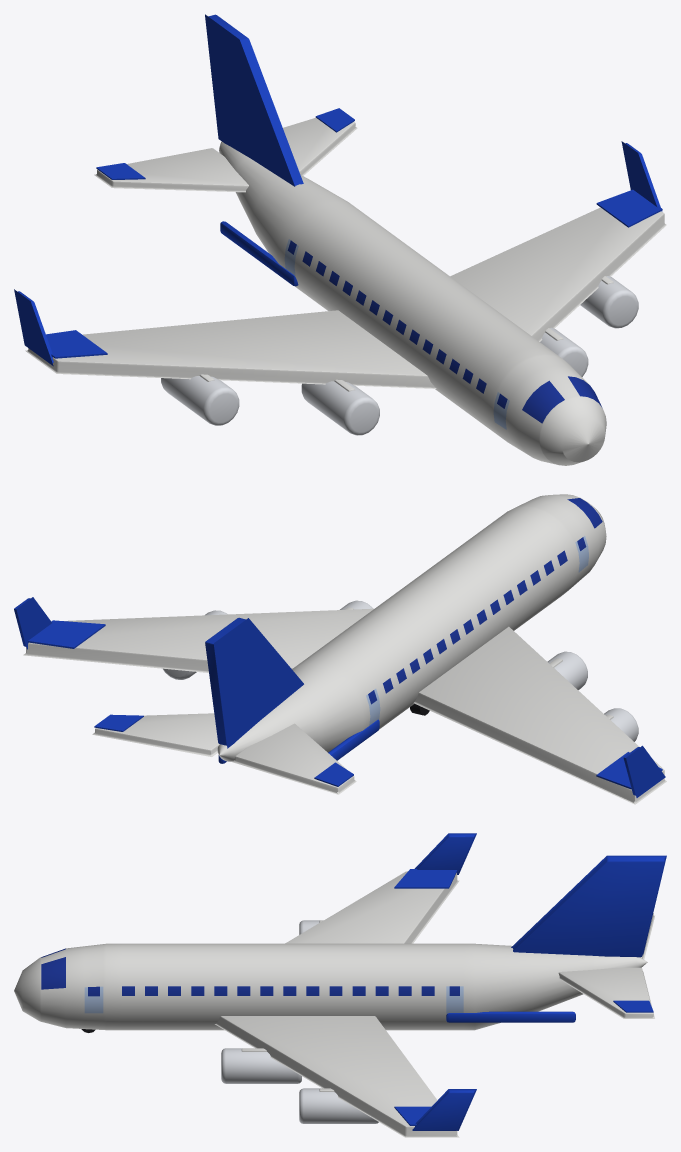
The model's file is jumbo.glb.
The picture shows the model from 3 angles, top to bottom: view 1: azimuth 30°, elevation 25°; view 2: azimuth 150°, elevation 25°; view 3: azimuth 270°, elevation 25°; orthographic projection. The views are drawn at different scales.
Parts seen in each view (by area): view 1: jumbo; view 2: jumbo; view 3: jumbo.
Part boxes in pixels (x1,y1,x2,y2): jumbo: (14, 14, 666, 465); jumbo: (14, 494, 666, 804); jumbo: (14, 833, 666, 1137).
Size of the model in its own units: 1.7 by 0.556 by 1.82.
